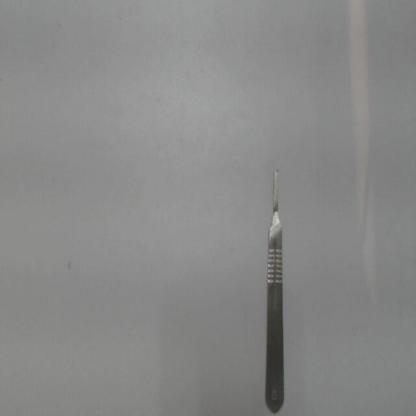No.4 BP Handle: (262, 162, 290, 415)
